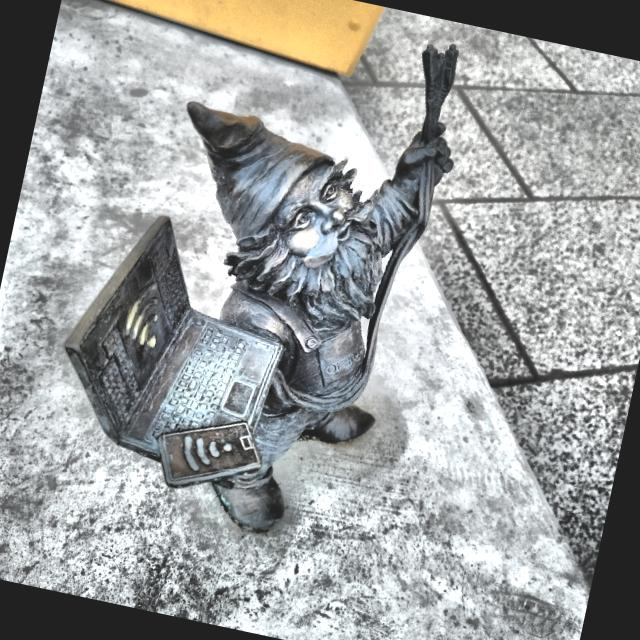Krasnal_Teleclaw: (65, 47, 456, 532)
